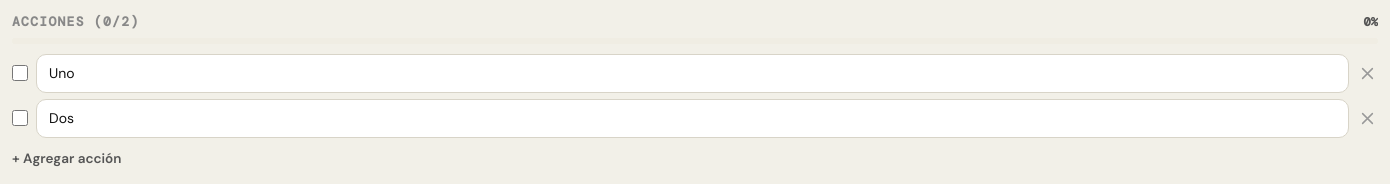
Test: CampaignChecklist › el progreso X/N y el % avanza al tildar acciones
Expected: the text "Acciones (0/2)" is shown, [12,12,139,32]
Expected: the text "0%" is shown, [1364,13,1378,31]
Click the checkbox named "Completar Uno".
click(20, 73)  # box [12,65,28,81]
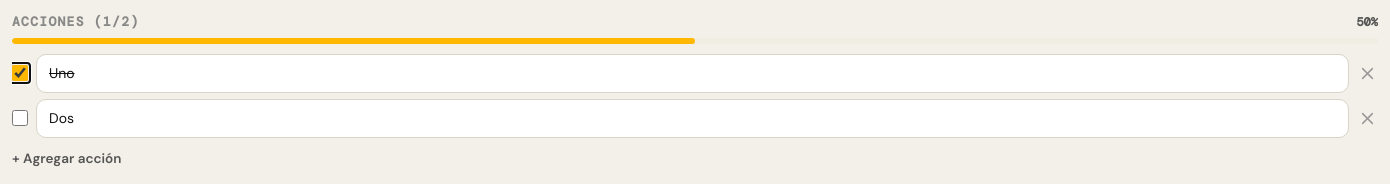
Now the text "Acciones (1/2)" is shown, box [12,12,139,32]
Now the text "50%" is shown, box [1356,13,1378,31]
